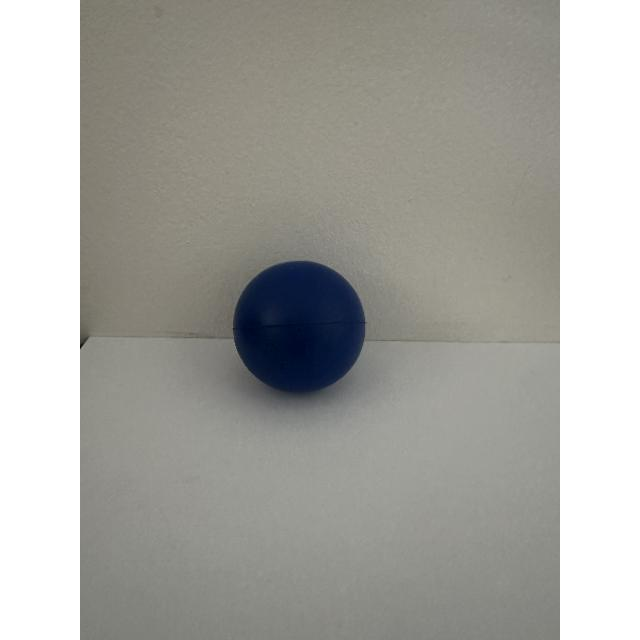blue_ball: (232, 250, 392, 402)
